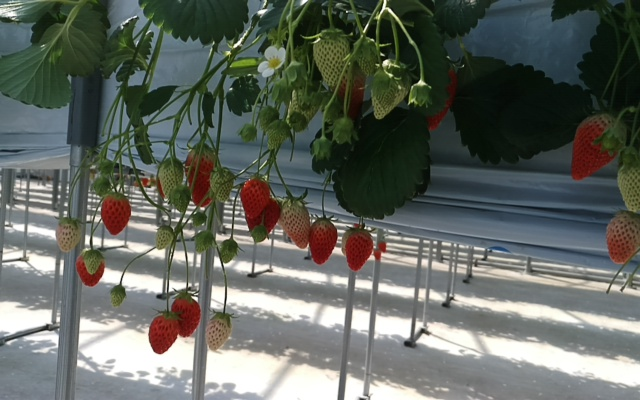GreenStrawberry: (312, 29, 350, 89), (371, 66, 409, 121), (606, 211, 640, 265), (278, 194, 310, 250), (287, 84, 320, 132), (616, 152, 640, 216), (156, 155, 184, 200), (260, 108, 287, 152), (205, 312, 233, 352), (350, 37, 379, 75), (55, 217, 81, 254), (211, 168, 234, 203), (170, 182, 190, 212), (194, 229, 214, 256), (154, 224, 174, 251), (219, 240, 239, 266), (83, 251, 102, 275), (110, 285, 127, 309), (188, 210, 207, 228), (252, 226, 268, 244)
MatureStrawberry: (570, 108, 628, 183), (183, 141, 220, 208), (339, 224, 374, 273), (306, 217, 339, 265), (169, 293, 202, 340), (100, 191, 131, 238), (148, 311, 181, 355), (246, 197, 282, 236), (240, 174, 269, 219), (74, 254, 105, 289)
